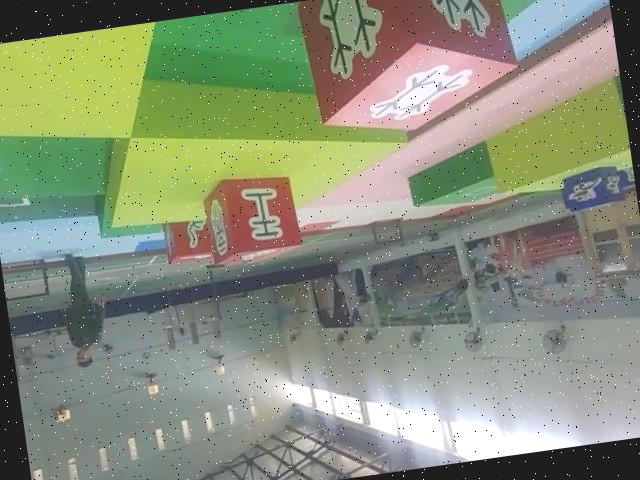R2 Fake: (197, 166, 306, 271)
R2 Real: (294, 0, 527, 146), (159, 212, 213, 267)
